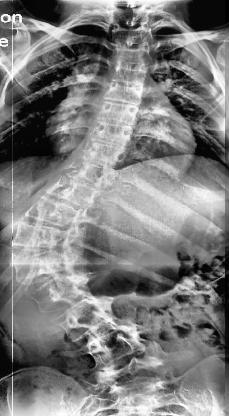Vertebrae: (77, 324, 146, 372), (22, 271, 88, 316), (50, 298, 114, 344), (12, 246, 78, 286), (42, 172, 100, 210), (11, 219, 74, 253), (58, 152, 114, 190), (22, 193, 78, 231), (76, 140, 128, 170), (105, 58, 155, 87), (86, 120, 134, 148), (94, 98, 140, 127), (99, 80, 148, 106), (109, 24, 158, 48), (112, 40, 156, 66), (108, 6, 156, 29)
